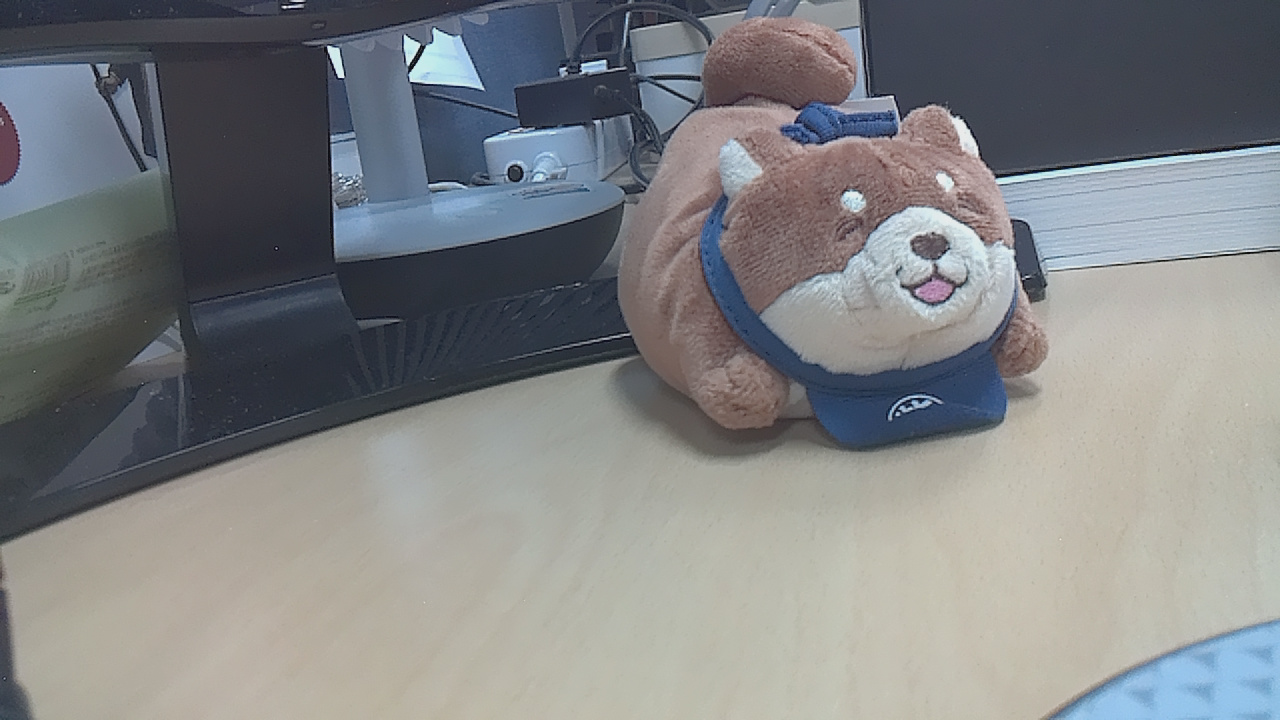cuteDog: (606, 26, 1103, 471)
